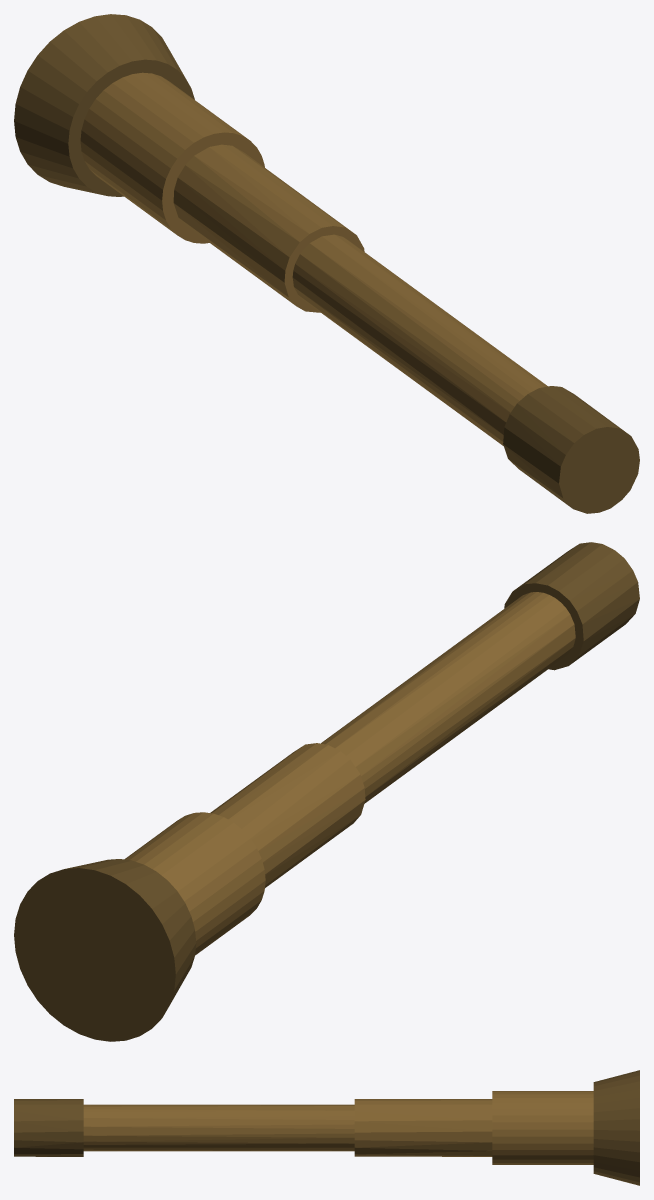
The model's file is TankMainGun.obj.
3 views of the same model, one above another, from view 1: azimuth 30°, elevation 25°; view 2: azimuth 150°, elevation 25°; view 3: azimuth 270°, elevation 25° (orthographic). The views are drawn at different scales.
Visible parts, largest first — view 1: 円柱.005_円柱.027; view 2: 円柱.005_円柱.027; view 3: 円柱.005_円柱.027.
Boxes of the visible parts, left/top/right/bottom form: 円柱.005_円柱.027: left=14, top=14, right=639, bottom=513; 円柱.005_円柱.027: left=14, top=542, right=639, bottom=1041; 円柱.005_円柱.027: left=14, top=1070, right=639, bottom=1185.
Bounding box in the file's own units: 1 × 1 × 5.4.
2 materials, 2 textured.
